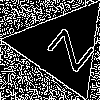Z: (37, 21, 96, 73)
